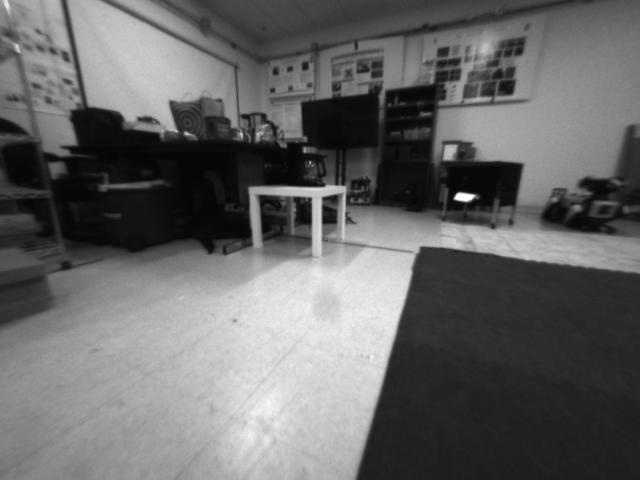coffee_pot: (286, 141, 331, 187)
